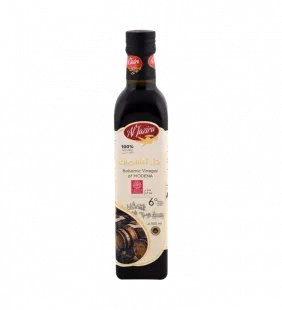AL JAZIRA: (107, 20, 180, 283)
